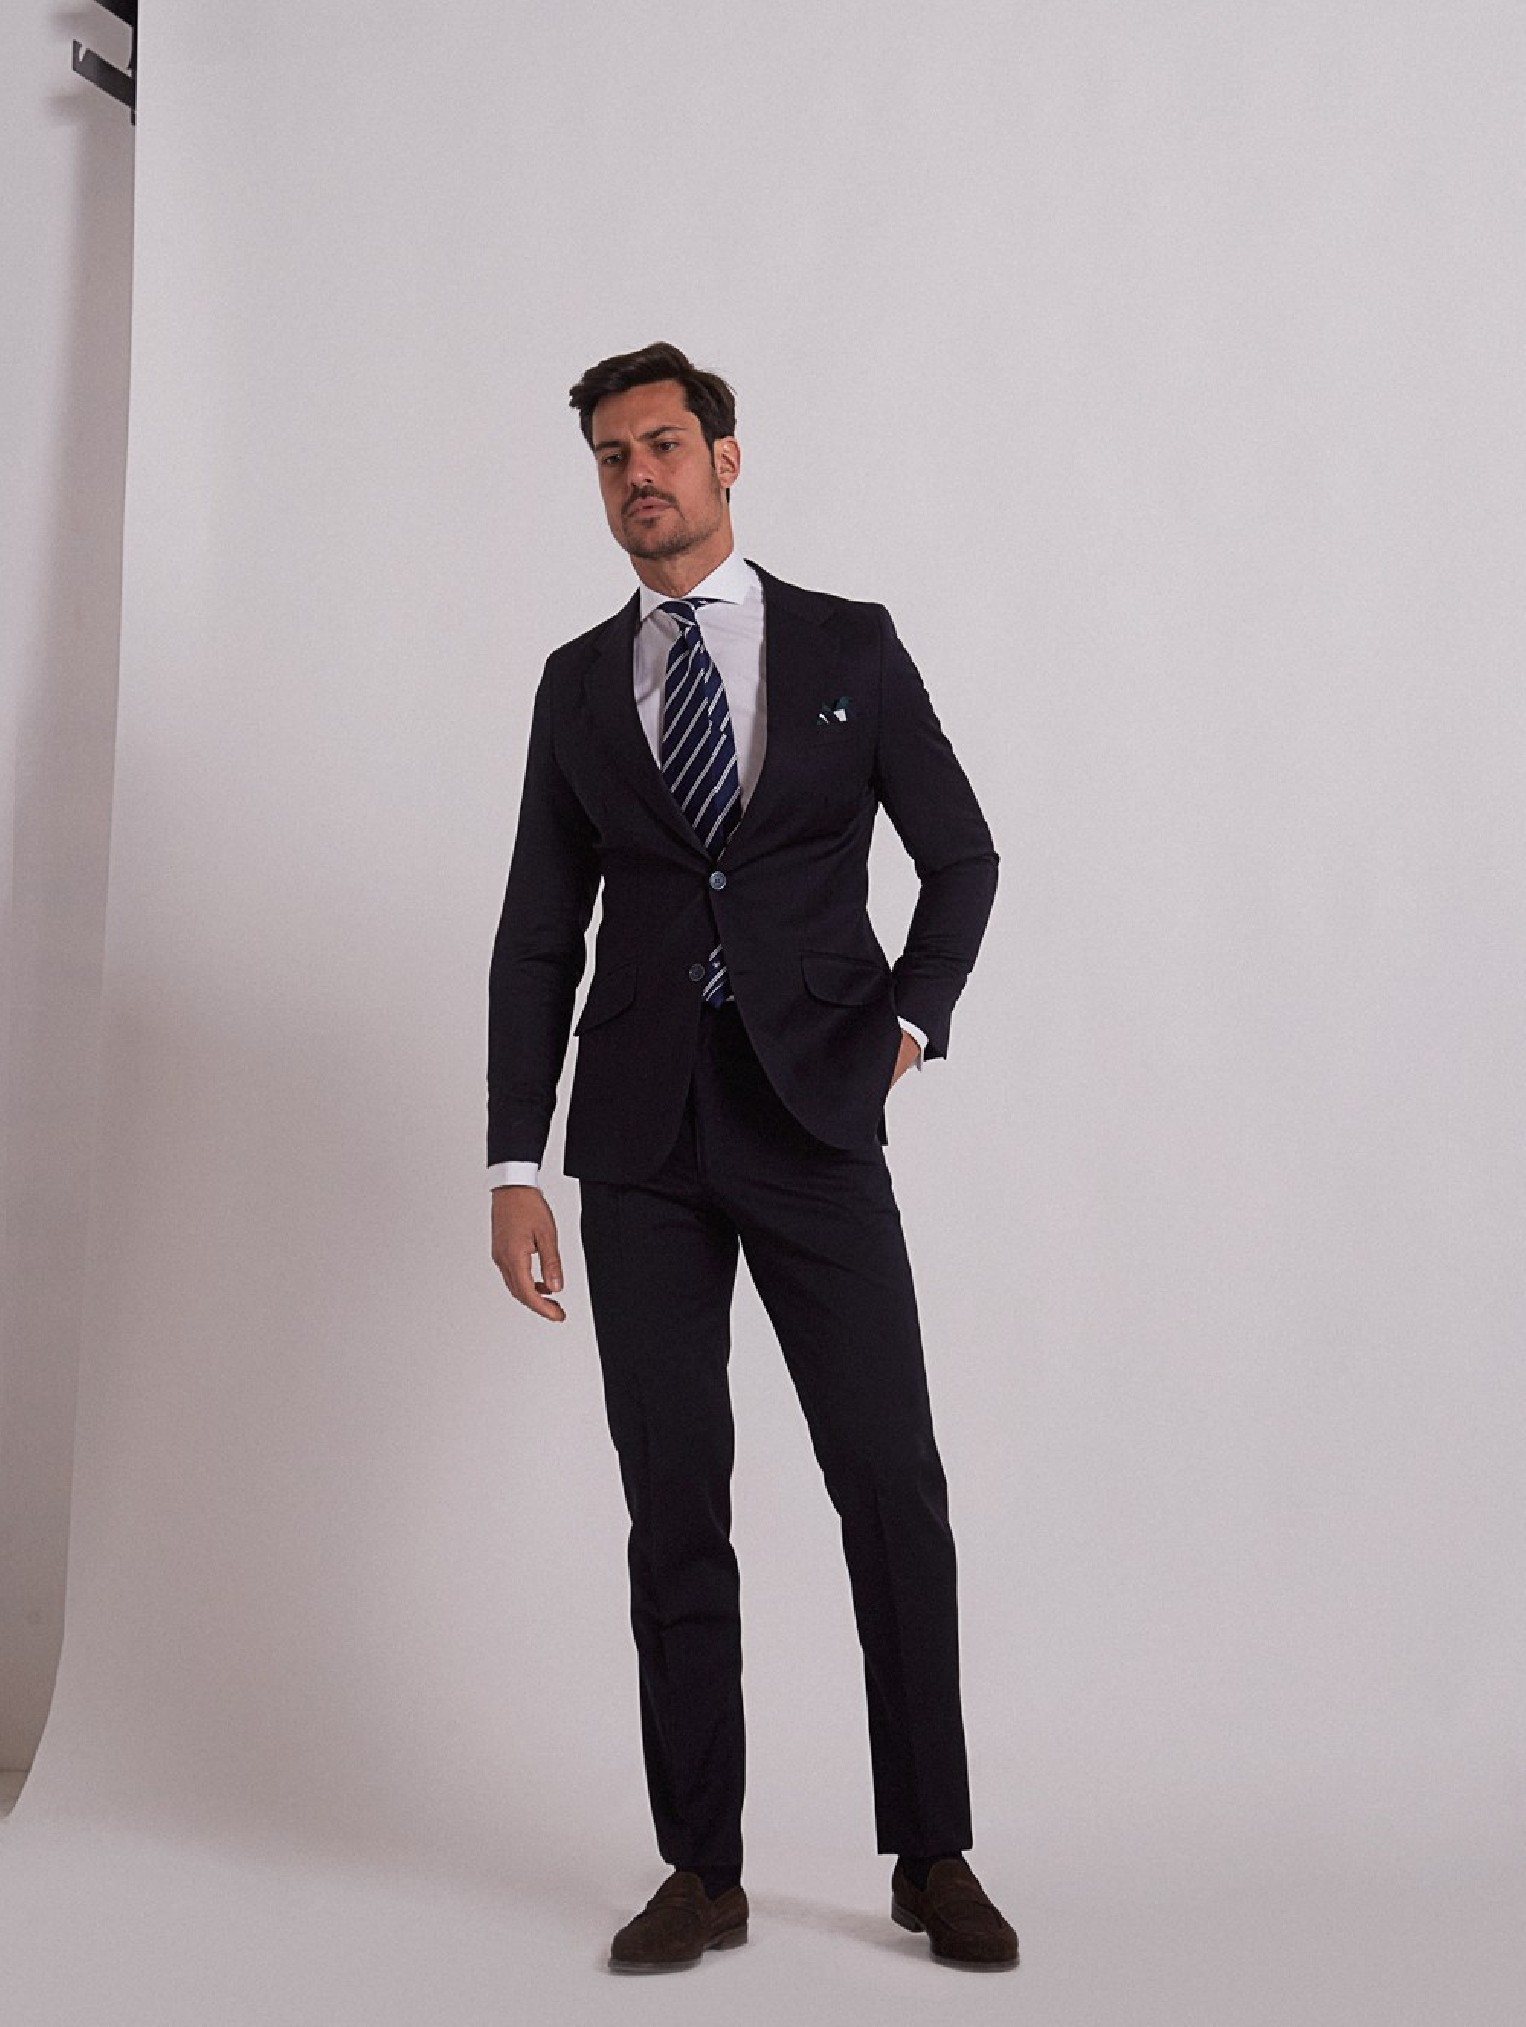F_M_suit jacket: (458, 567, 994, 1157)
F_dress pants: (548, 1141, 1005, 1876)
F_shirt: (617, 561, 777, 838)
F_tie: (659, 611, 749, 833)
